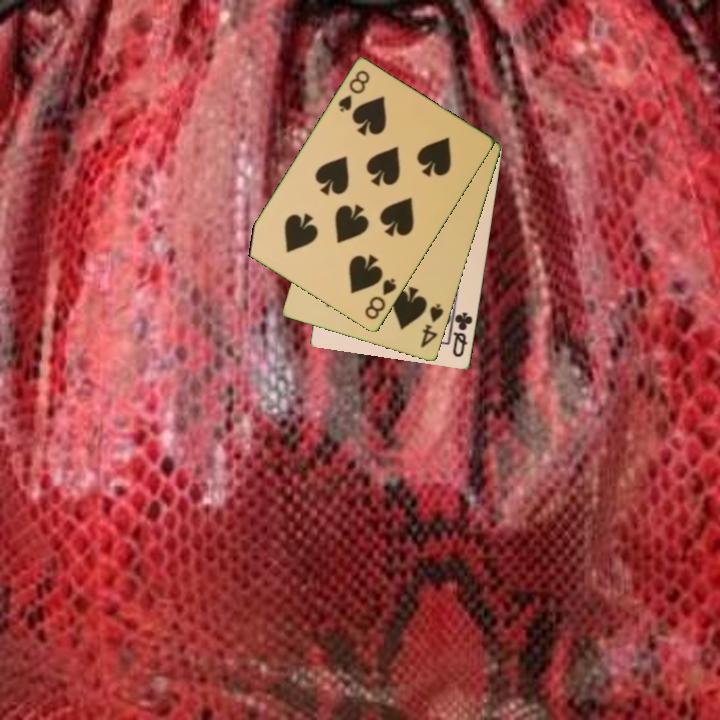4s: (417, 300, 446, 351)
8s: (361, 275, 400, 323), (335, 67, 373, 116)
Qc: (447, 306, 476, 360)
